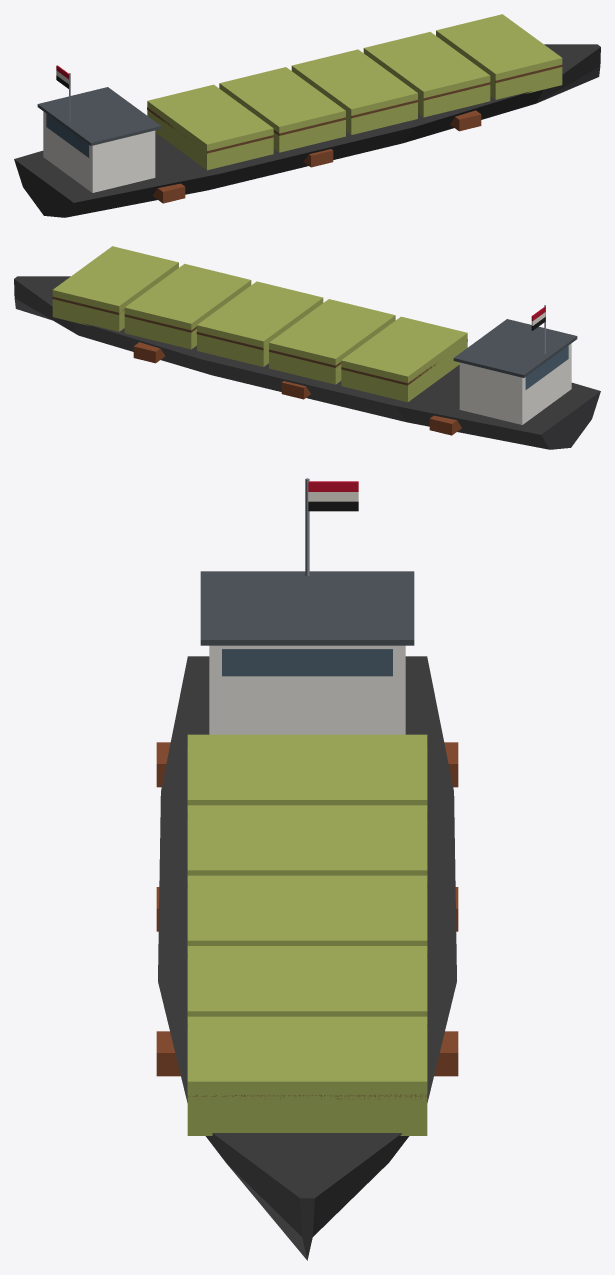
File: flodpram.glb
3 views of the same model, one above another, from view 1: azimuth 30°, elevation 25°; view 2: azimuth 150°, elevation 25°; view 3: azimuth 270°, elevation 25° (orthographic). The views are drawn at different scales.
Visible parts, largest first — view 1: flodpram; view 2: flodpram; view 3: flodpram.
Part boxes in pixels (left/top/right/bottom): flodpram: left=14, top=14, right=600, bottom=217; flodpram: left=14, top=246, right=600, bottom=449; flodpram: left=156, top=478, right=458, bottom=1260.
Size of the model in its own units: 30 by 7.3 by 7.06.
